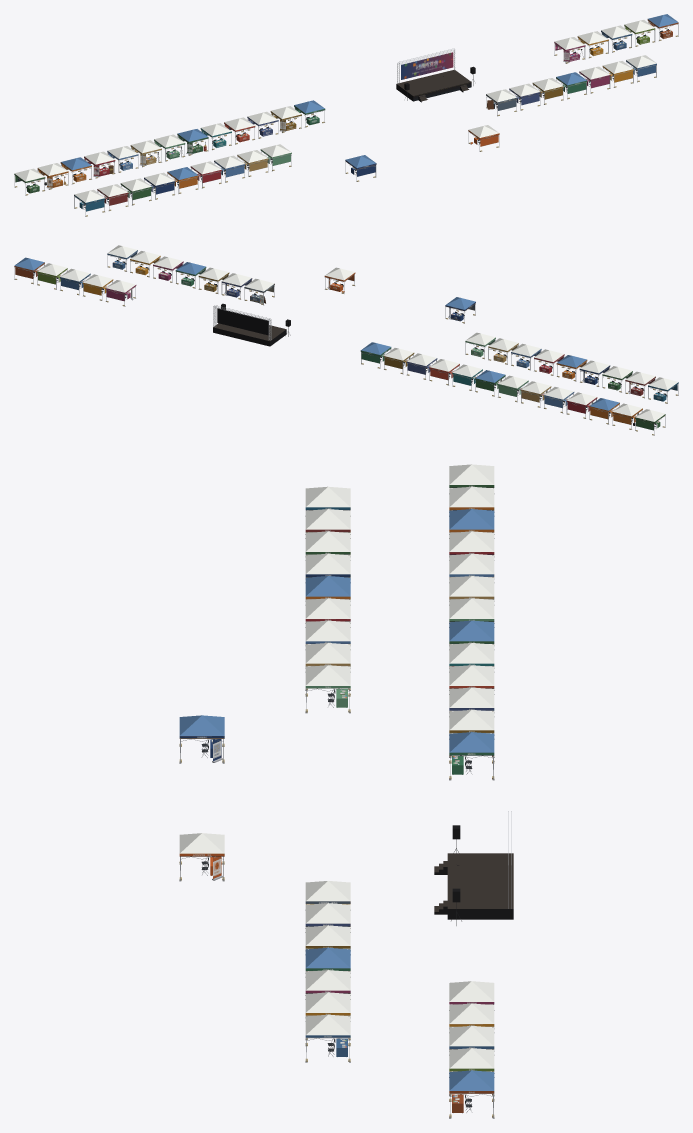
File: club_fair_expo.glb
3 renders of one model, top to bottom at view 1: azimuth 30°, elevation 25°; view 2: azimuth 150°, elevation 25°; view 3: azimuth 270°, elevation 25°, orthographic. The views are drawn at different scales.
Visible parts, largest first — view 1: club_fair_expo_all; view 2: club_fair_expo_all; view 3: club_fair_expo_all.
Part boxes in pixels (left/top/right/bottom): club_fair_expo_all: left=14, top=14, right=678, bottom=216; club_fair_expo_all: left=14, top=245, right=678, bottom=435; club_fair_expo_all: left=179, top=464, right=513, bottom=1118.
Size of the model in its own units: 101 by 4.02 by 22.8.
1 material, 1 textured.
